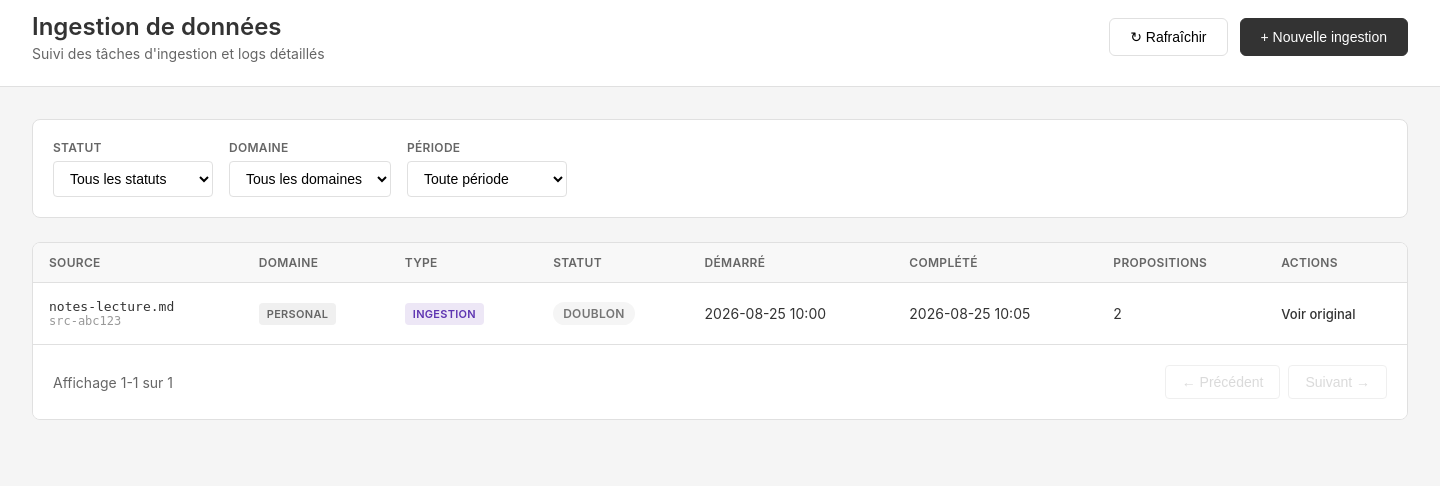
Test case: IngestionLogs › AC4: a skipped_duplicate row's expanded detail surfaces the original source_id via its events entry
Click the link "Voir original" at [1318, 314], box x1=1281 y1=306 x2=1356 y2=322
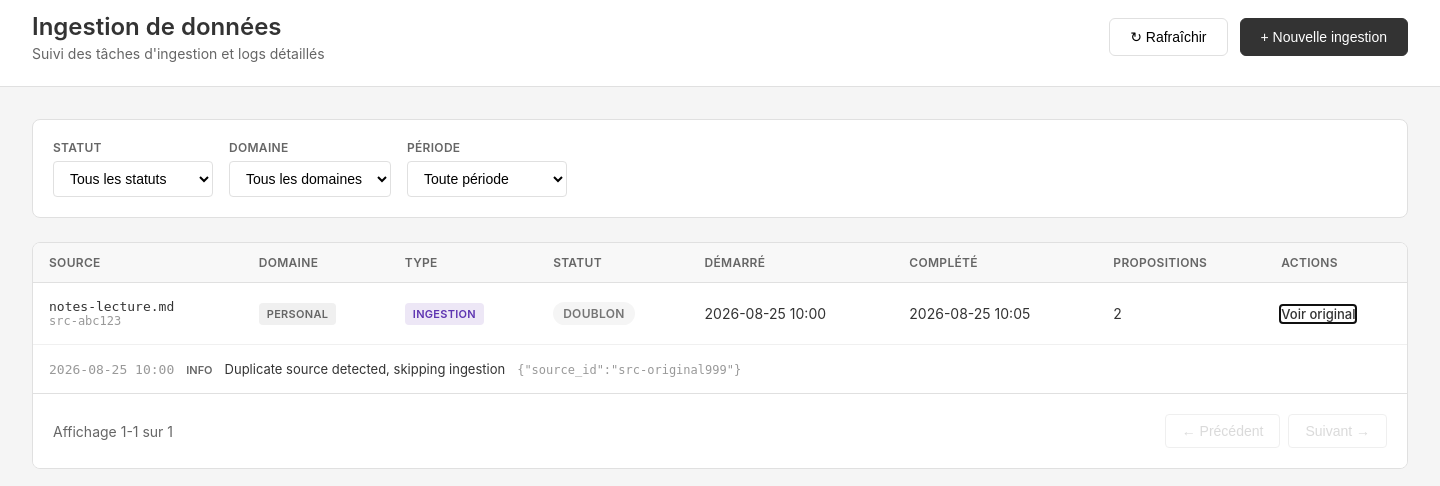
Check: the text "{\"source_id\":\"src-original999\"}" is shown, box x1=517 y1=363 x2=741 y2=377
